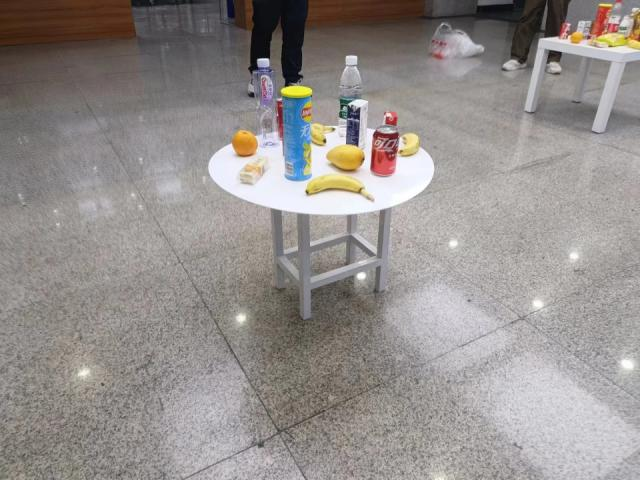bottle: (252, 58, 280, 148), (338, 54, 364, 140)
cylinder: (281, 85, 315, 181)
drink_box: (345, 98, 369, 150), (383, 110, 398, 137)
